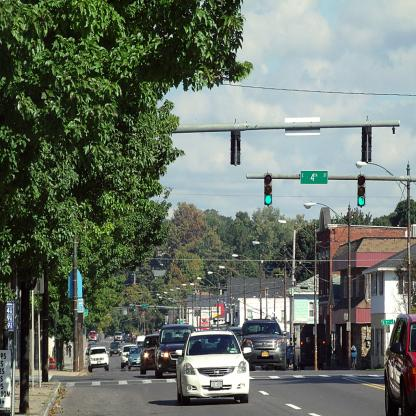Car: (173, 338, 250, 410), (384, 310, 416, 416), (240, 318, 288, 371), (155, 322, 199, 376), (143, 332, 162, 375), (87, 344, 109, 371), (128, 346, 142, 372), (224, 327, 242, 347), (120, 343, 135, 366), (110, 341, 122, 355), (90, 333, 100, 342), (117, 330, 123, 340)
